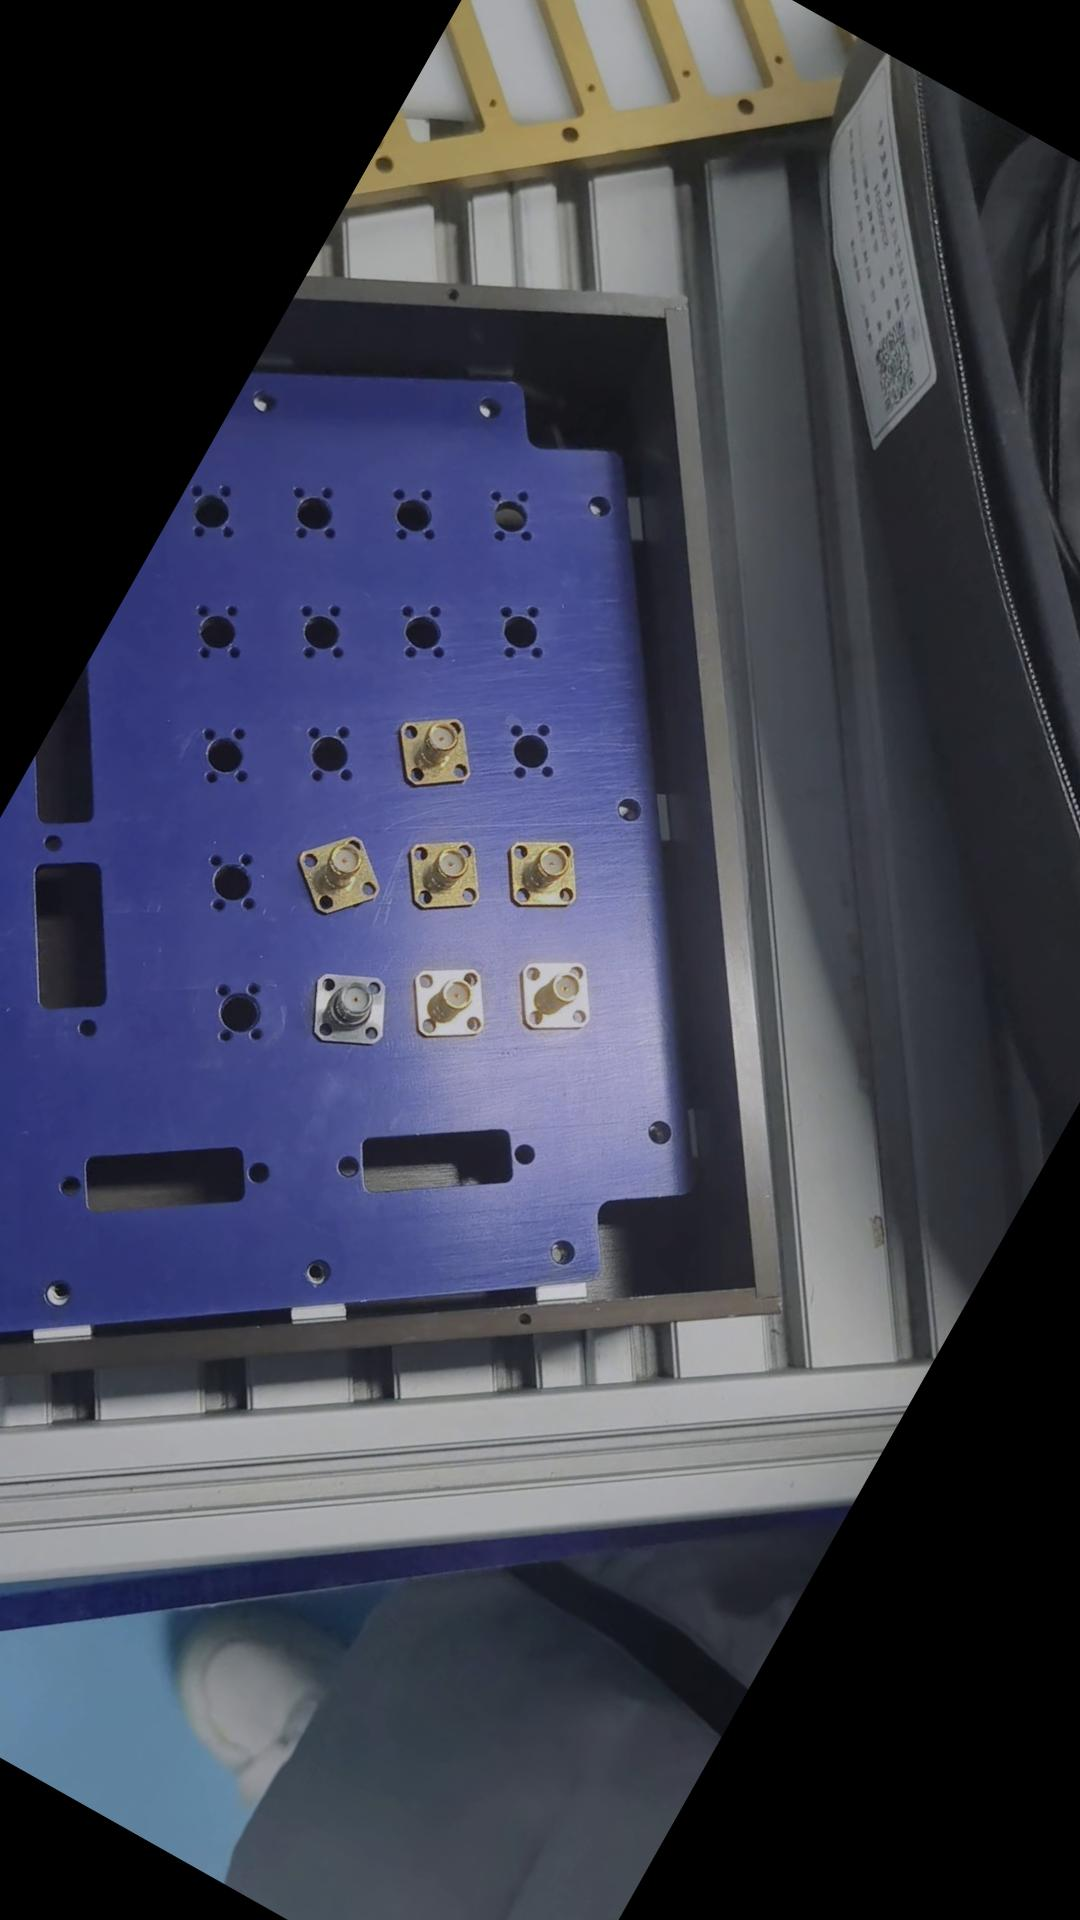SMA: (286, 948, 406, 1069), (382, 811, 497, 928), (276, 814, 392, 928), (386, 939, 500, 1055), (375, 696, 489, 808), (498, 938, 609, 1051), (483, 814, 593, 926)
